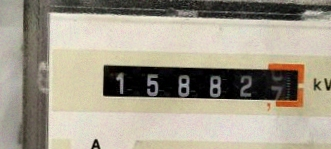1: (113, 69, 126, 95)
2: (237, 73, 254, 98)
5: (144, 71, 159, 97)
7: (268, 83, 283, 100)
8: (175, 72, 192, 97), (207, 73, 223, 98)
screen: (92, 52, 312, 116)
